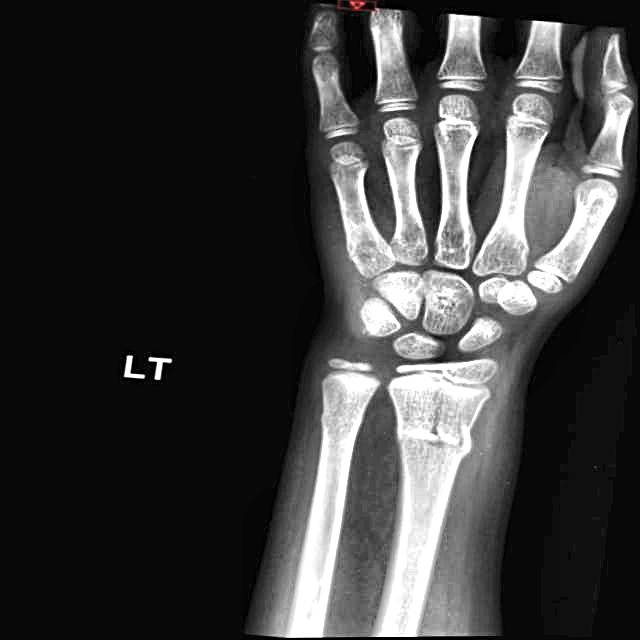Linear: (396, 389, 474, 482)
